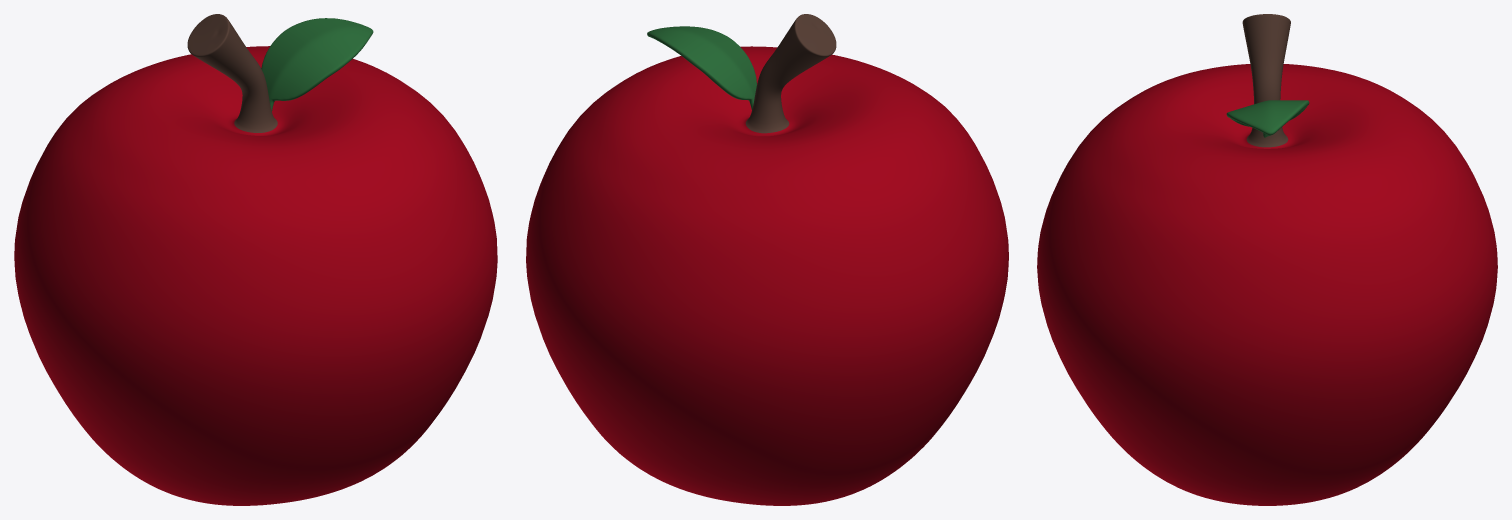
The model's file is Aa-Apple.glb.
3 views of the same model, side by side, from view 1: azimuth 30°, elevation 25°; view 2: azimuth 150°, elevation 25°; view 3: azimuth 270°, elevation 25° (orthographic). The views are drawn at different scales.
Parts seen in each view (by area): view 1: Apple; view 2: Apple; view 3: Apple.
Part boxes in pixels (x1,y1,x2,y2): Apple: [14, 14, 497, 505]; Apple: [526, 14, 1008, 505]; Apple: [1037, 14, 1497, 505].
Size of the model in its own units: 0.0627 by 0.0658 by 0.0627.
